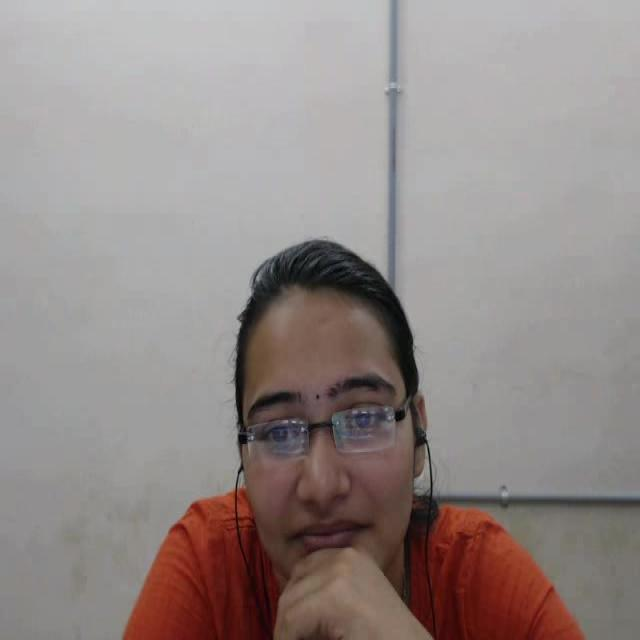Bored: (177, 199, 463, 640)
